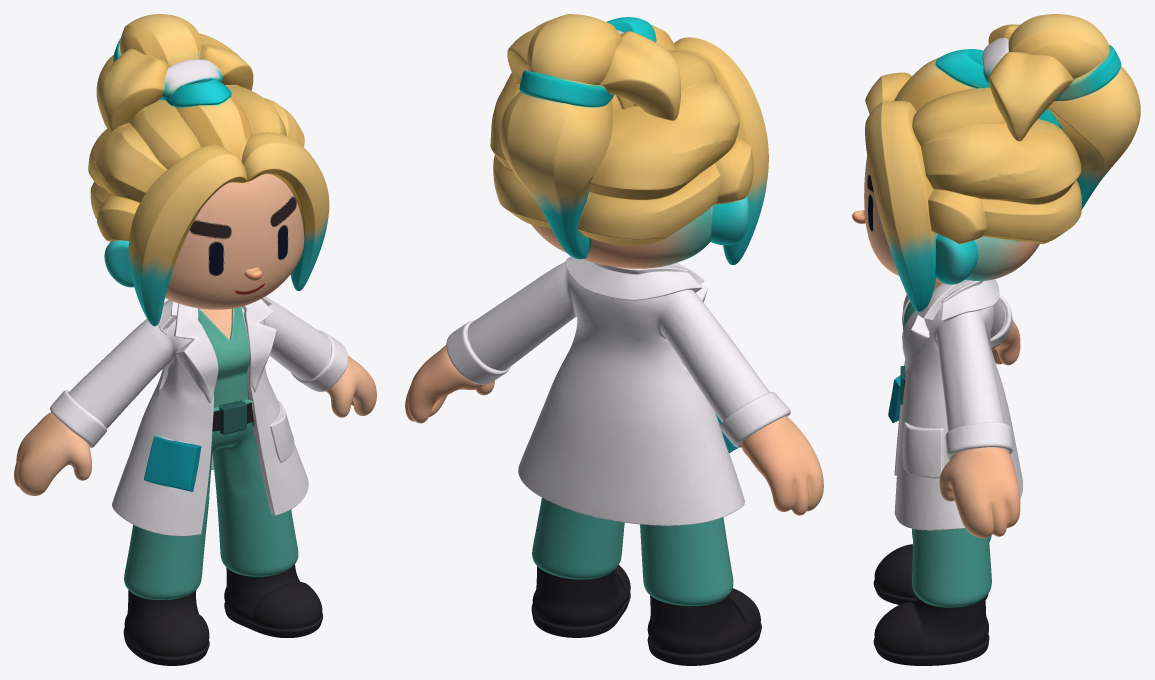
Rendered from volta_original_statisch.glb.
3 views of the same model, side by side, from view 1: azimuth 30°, elevation 25°; view 2: azimuth 150°, elevation 25°; view 3: azimuth 270°, elevation 25° (orthographic). The views are drawn at different scales.
Size of the model in its own units: 1.24 by 1.9 by 0.8239.
1 material, 1 textured.
